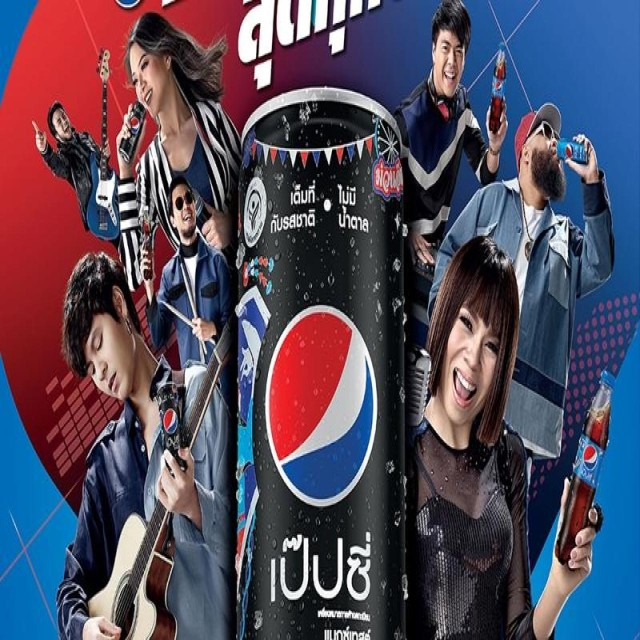pepsi: (264, 305, 379, 519), (582, 441, 600, 474)
